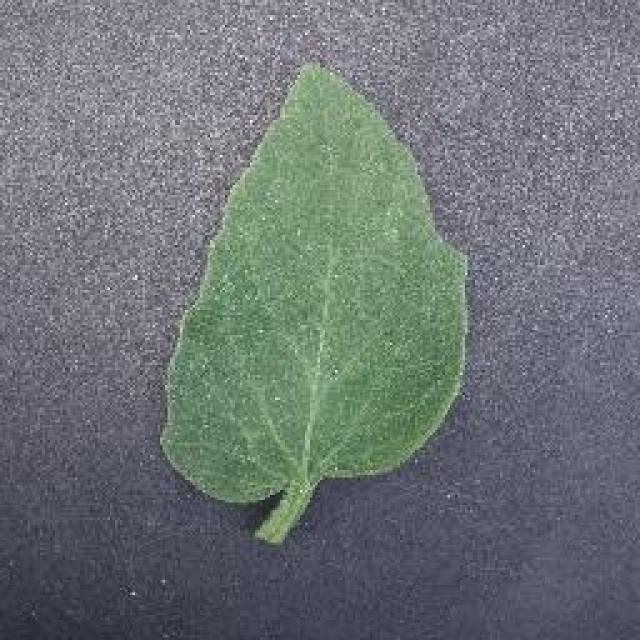Tomato_Healthy: (148, 55, 482, 519)
